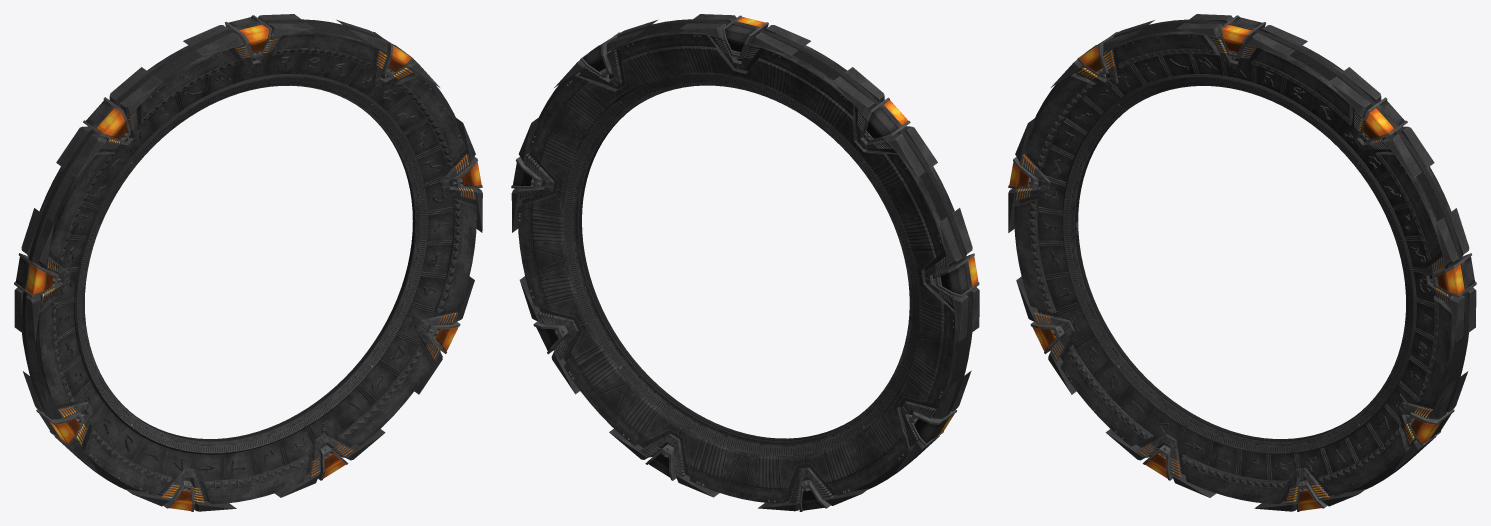
The model's file is StarGateGLTF.obj.
3 views of the same model, side by side, from view 1: azimuth 30°, elevation 25°; view 2: azimuth 150°, elevation 25°; view 3: azimuth 330°, elevation 25° (orthographic).
Visible parts, largest first — view 1: gate_Gate_0_1, gate_Gate_0_4, gate_Gate_0_2, gate_Gate_0_3; view 2: gate_Gate_0_1, gate_Gate_0_2, gate_Gate_0_3; view 3: gate_Gate_0_1, gate_Gate_0_4, gate_Gate_0_2, gate_Gate_0_3.
Boxes of the visible parts, x1,y1,x2,y2 form: gate_Gate_0_1: [22, 19, 476, 504]; gate_Gate_0_4: [54, 53, 453, 481]; gate_Gate_0_2: [14, 14, 482, 511]; gate_Gate_0_3: [15, 17, 258, 434]; gate_Gate_0_1: [517, 19, 972, 503]; gate_Gate_0_2: [511, 14, 979, 511]; gate_Gate_0_3: [513, 24, 967, 510]; gate_Gate_0_1: [1014, 19, 1468, 504]; gate_Gate_0_4: [1037, 53, 1436, 481]; gate_Gate_0_2: [1008, 14, 1476, 511]; gate_Gate_0_3: [1233, 17, 1474, 434].
Size of the model in its own units: 6.78 by 6.8 by 0.5528.
Materials: 4 (4 with a texture image).
